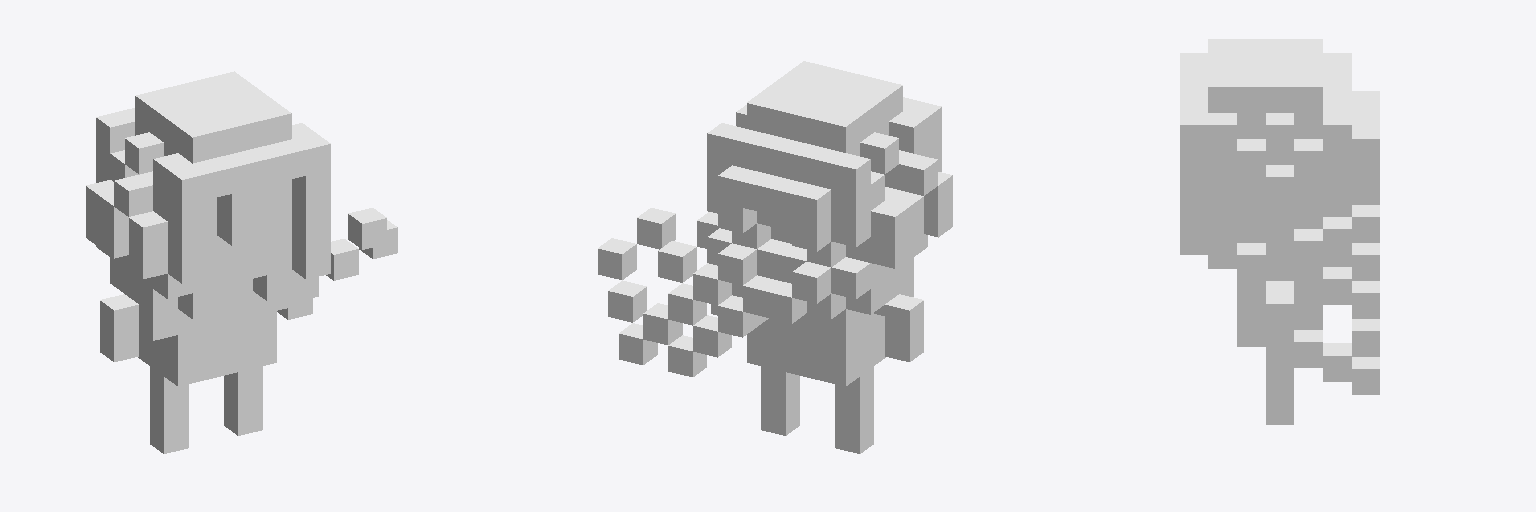
The model's file is GG_fire.obj.
3 renders of one model, left to right at view 1: azimuth 30°, elevation 25°; view 2: azimuth 150°, elevation 25°; view 3: azimuth 270°, elevation 25°, orthographic.
Visible parts, largest first — view 1: object 1; view 2: object 1; view 3: object 1.
Part boxes in pixels (left/top/right/bottom): object 1: left=86, top=71, right=397, bottom=453; object 1: left=598, top=61, right=952, bottom=453; object 1: left=1180, top=39, right=1379, bottom=424.
Size of the model in its own units: 1.2 by 1.3 by 0.7.